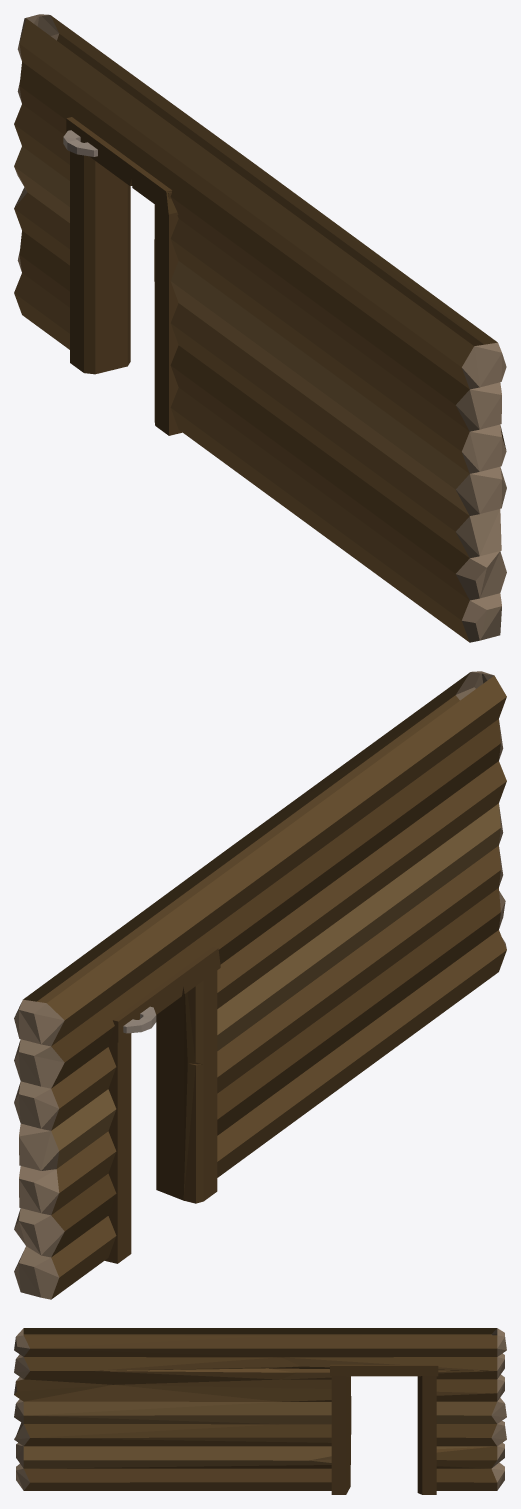
The model's file is EA03_Village_Hut_Wall_Front_03f.glb.
3 views of the same model, one above another, from view 1: azimuth 30°, elevation 25°; view 2: azimuth 150°, elevation 25°; view 3: azimuth 270°, elevation 25° (orthographic). The views are drawn at different scales.
Visible parts, largest first — view 1: EA03_Village_Hut_Wall_Front_03f; view 2: EA03_Village_Hut_Wall_Front_03f; view 3: EA03_Village_Hut_Wall_Front_03f.
Boxes of the visible parts, x1,y1,x2,y2 form: EA03_Village_Hut_Wall_Front_03f: [14, 14, 506, 642]; EA03_Village_Hut_Wall_Front_03f: [14, 671, 506, 1299]; EA03_Village_Hut_Wall_Front_03f: [14, 1328, 506, 1494].
Bounding box in the file's own units: 0.7294 × 3.13 × 8.83.
1 material, 1 textured.
